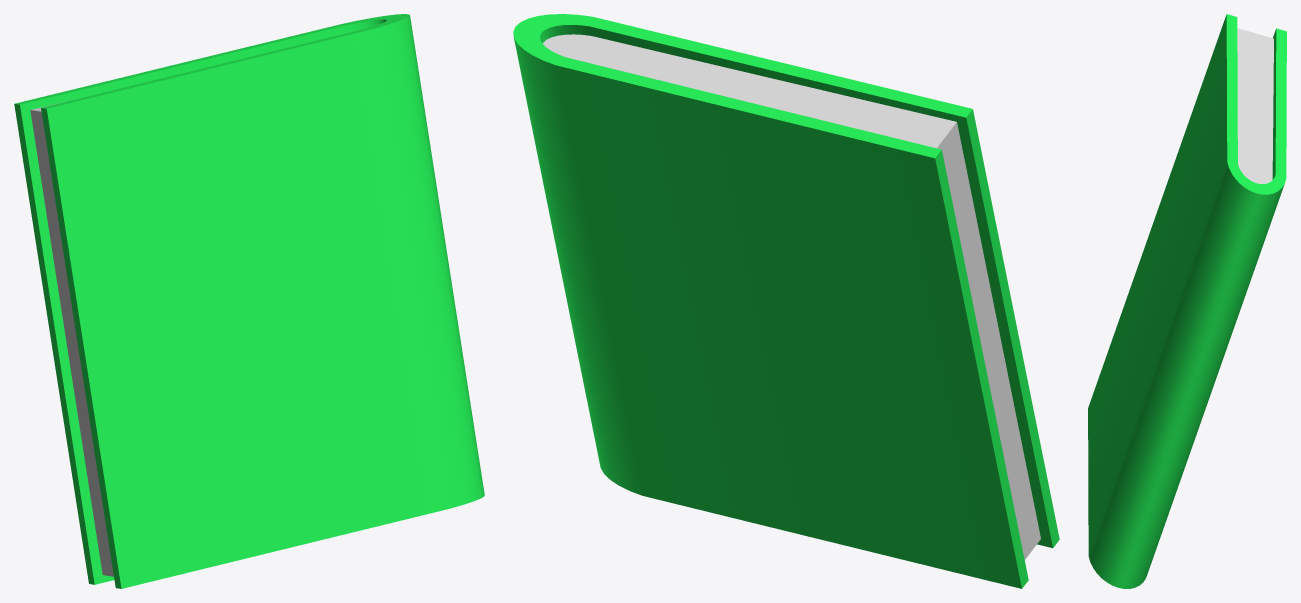
Rendered from Libro.006.glb.
3 renders of one model, left to right at view 1: azimuth 30°, elevation 25°; view 2: azimuth 150°, elevation 25°; view 3: azimuth 270°, elevation 25°, orthographic. The views are drawn at different scales.
Parts seen in each view (by area): view 1: Caballete_Libro.006; view 2: Caballete_Libro.006; view 3: Caballete_Libro.006.
Part boxes in pixels (x1,y1,x2,y2): Caballete_Libro.006: (14,14,484,588); Caballete_Libro.006: (513,14,1059,588); Caballete_Libro.006: (1088,14,1286,588).
Size of the model in its own units: 0.2625 by 0.2951 by 0.1292.
